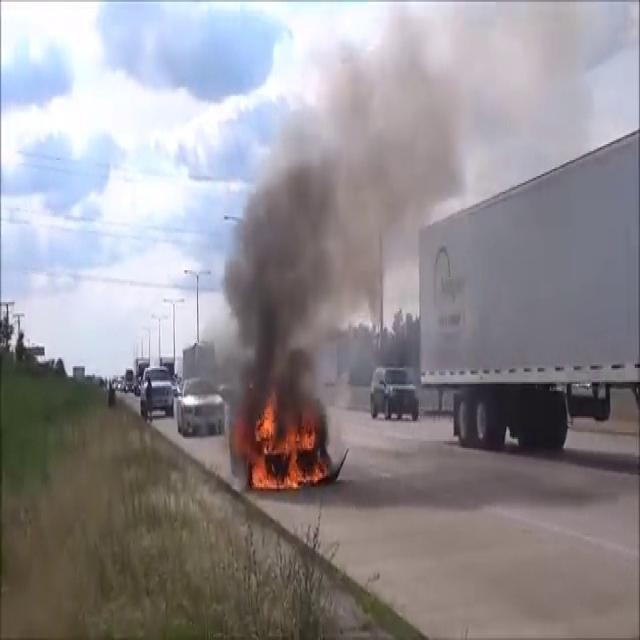Fire: (246, 394, 328, 492)
Smoke: (222, 7, 482, 397)
